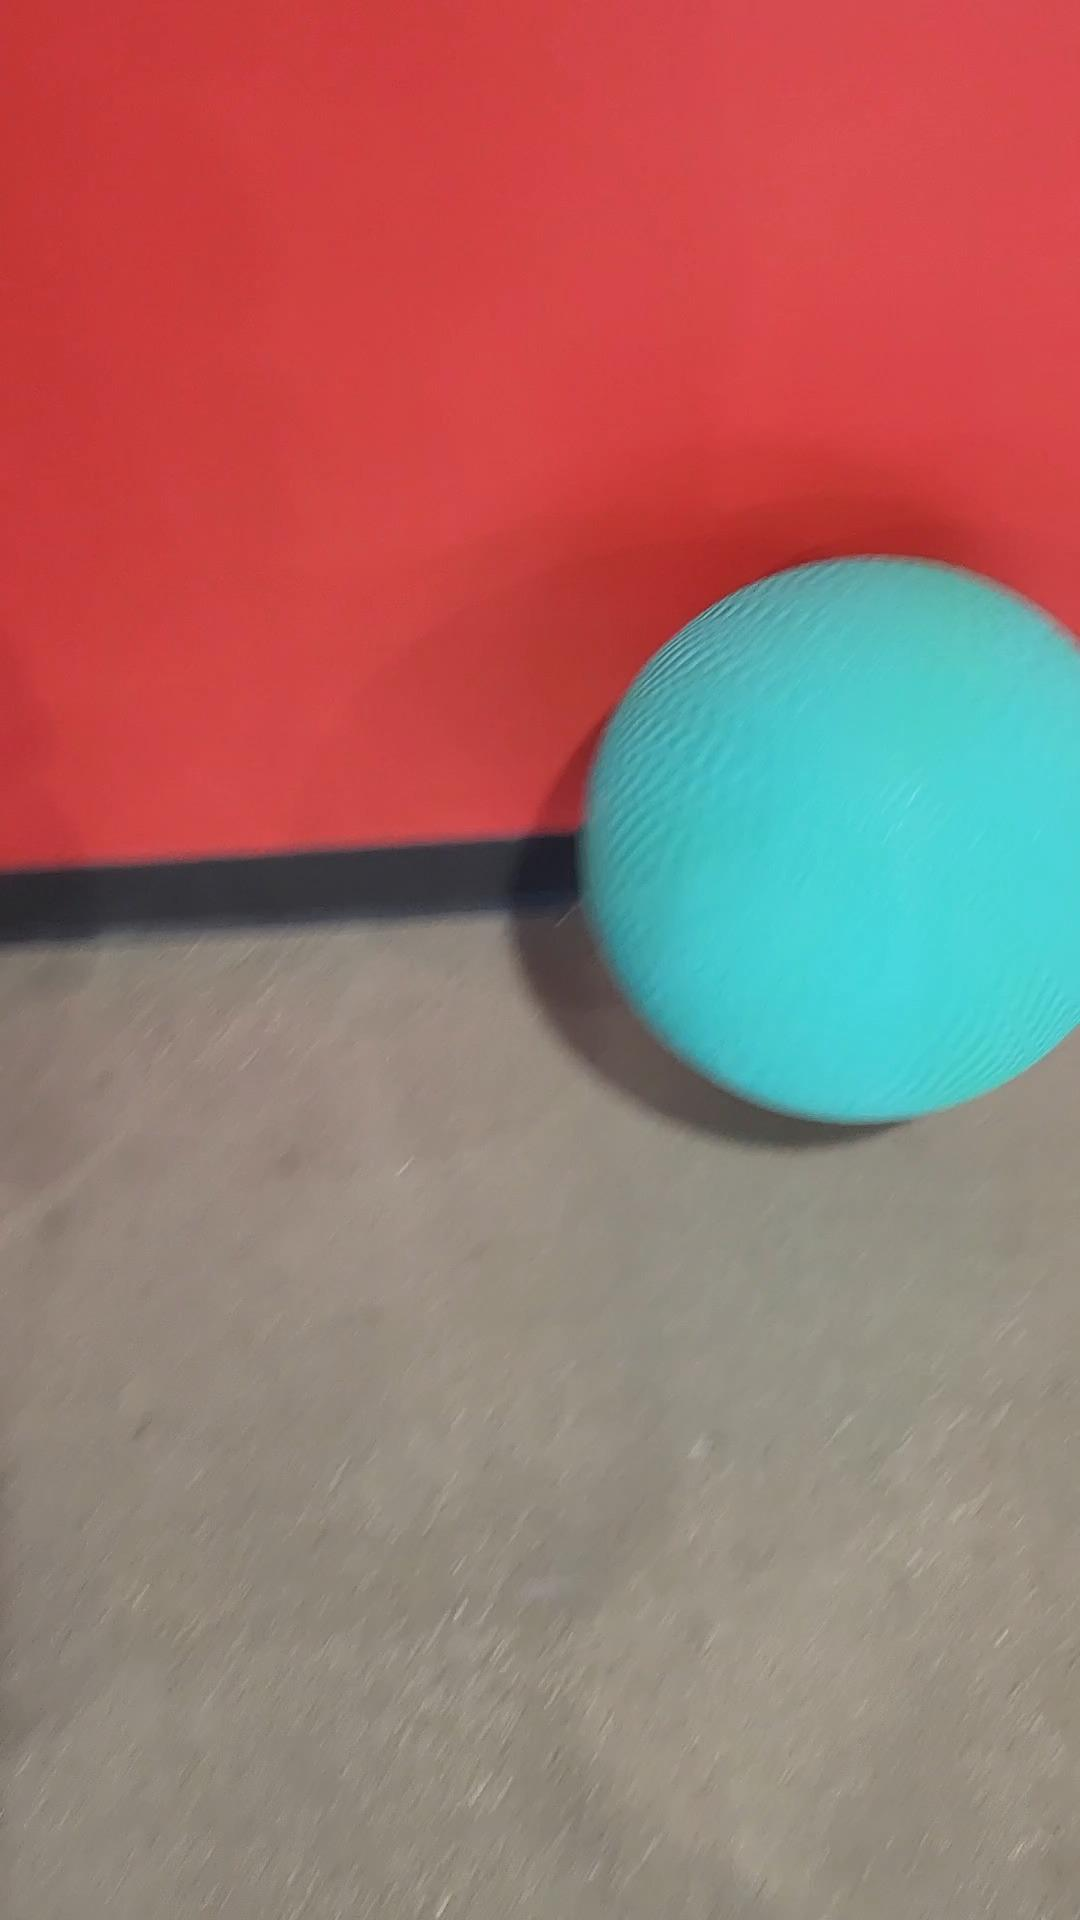algae: (596, 556, 1080, 1117)
